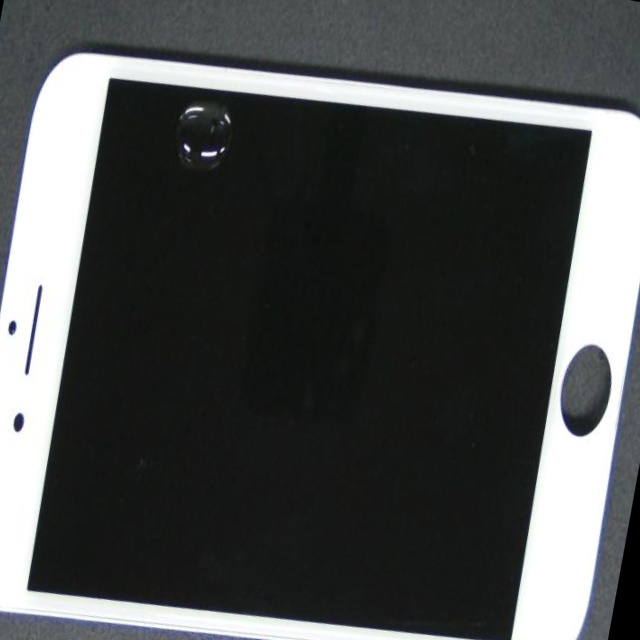oil: (125, 21, 353, 226)
